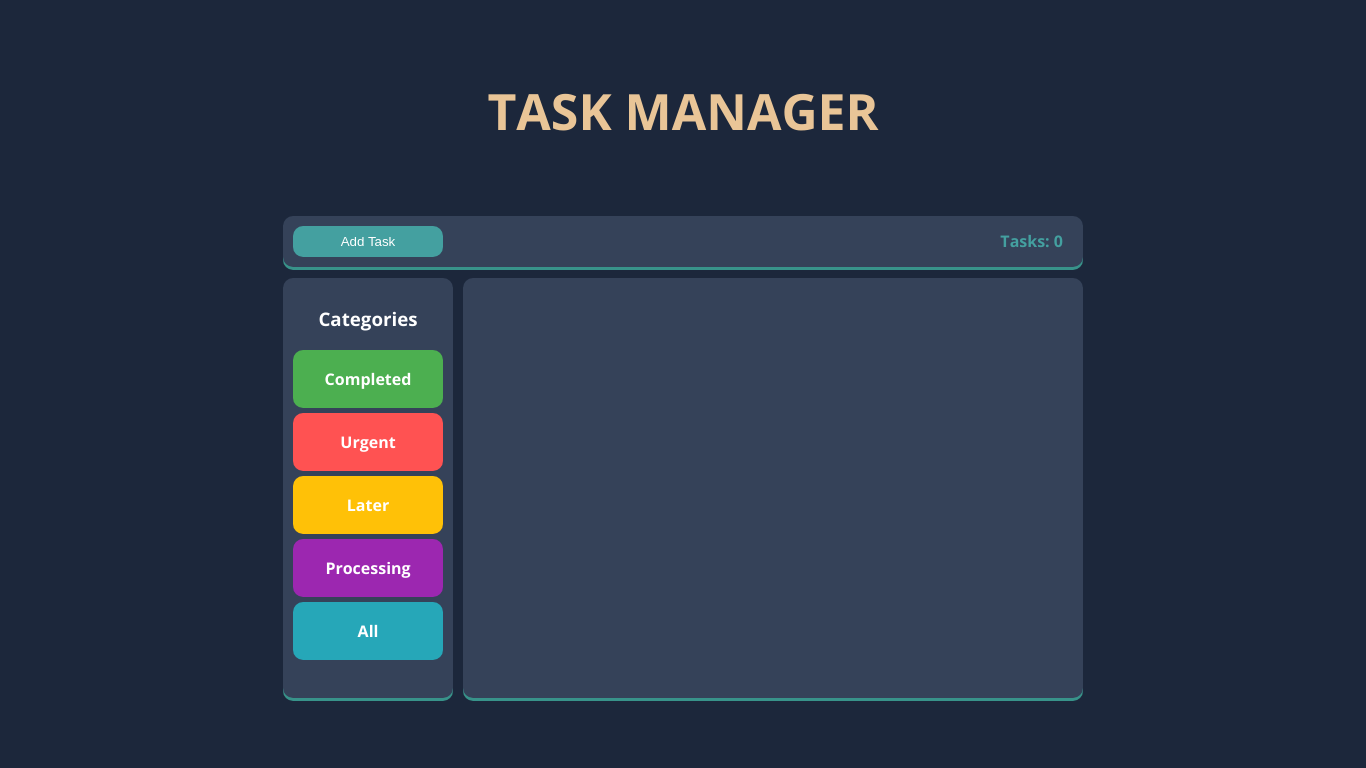
Header › should add a task on Submit Task button click
The width and height of the screenshot is (1366, 768).
Click the button with class "header__add-task-button": coordinates (368, 242) left=293, top=226, right=443, bottom=257
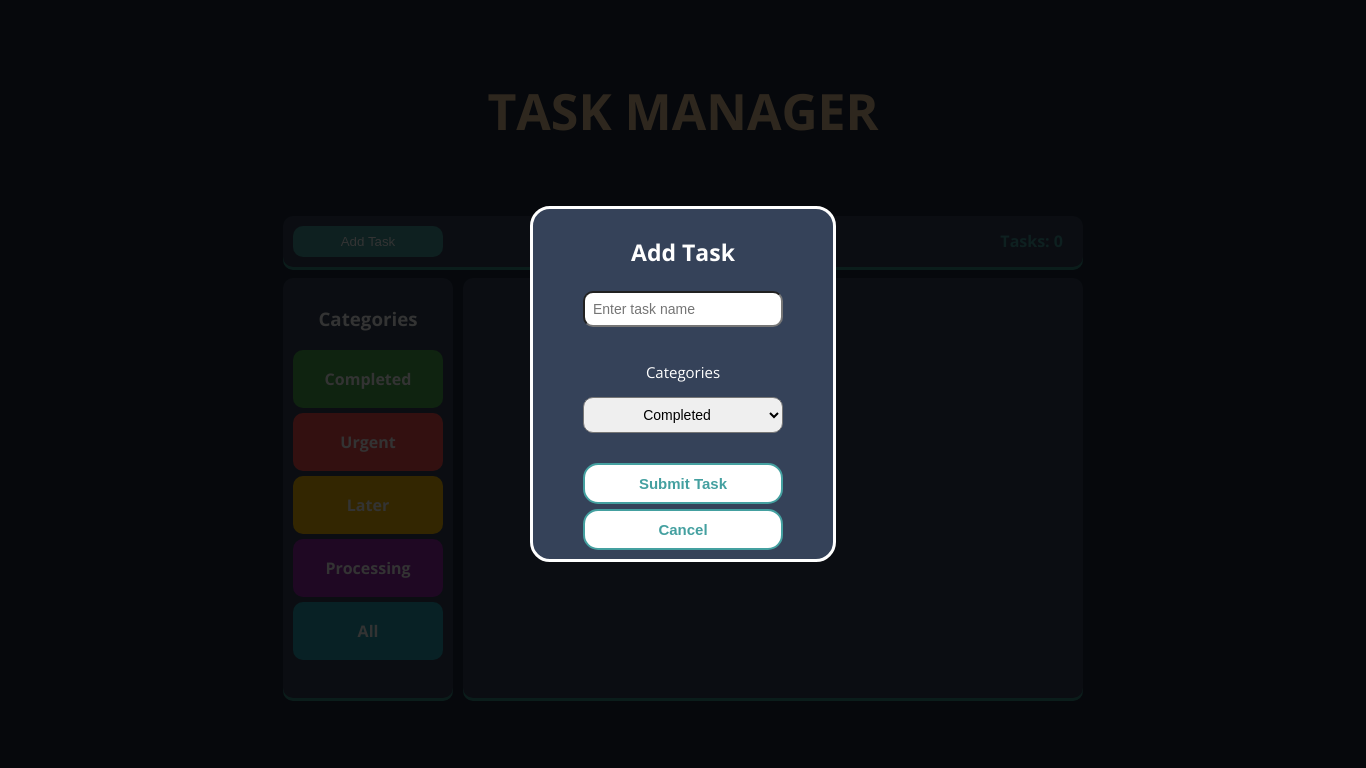
In the field with placeholder "Enter task name": coordinates (683, 309) left=583, top=291, right=783, bottom=327, type "New Task"
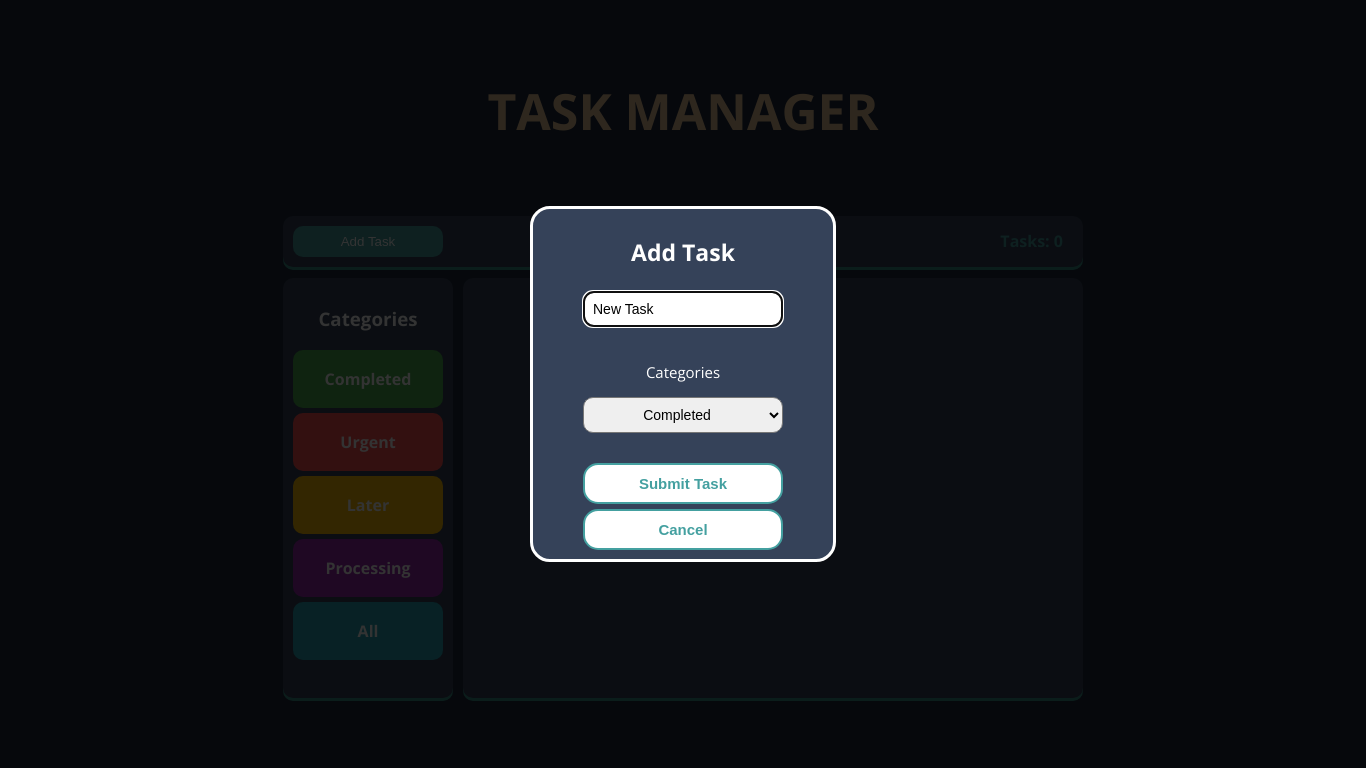
Select "Urgent" in the dropdown: coordinates (683, 415) left=583, top=397, right=783, bottom=433
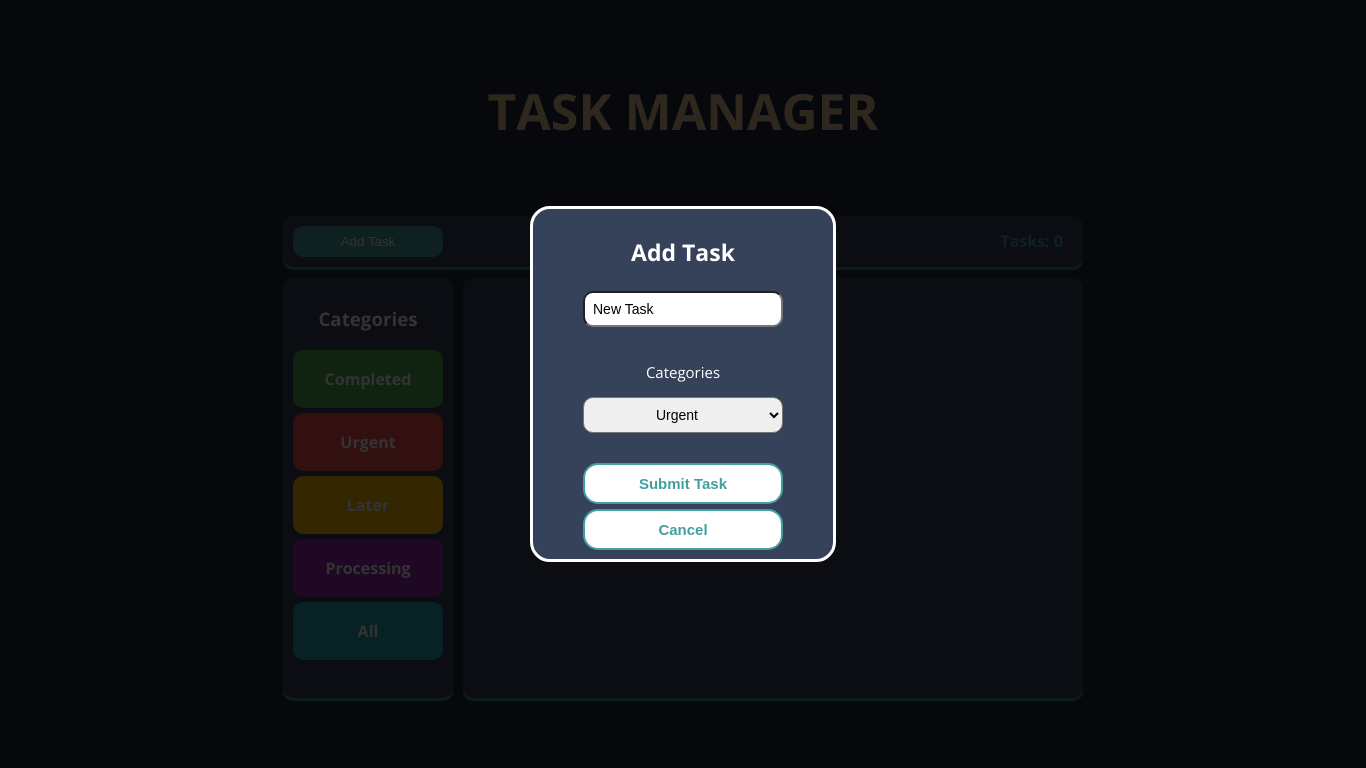
Click the button with class "modal__btn-submitTask": coordinates (683, 484) left=583, top=463, right=783, bottom=504
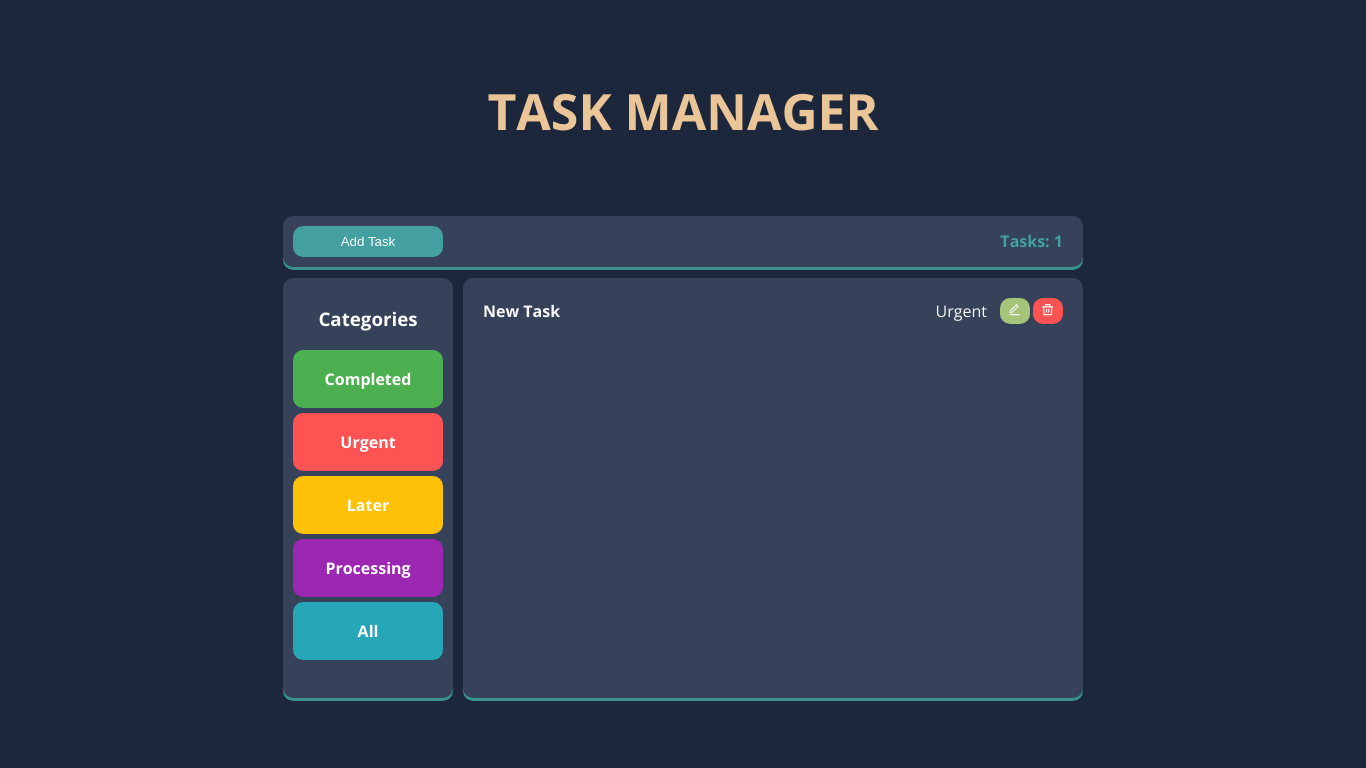
Result: the text with class "header__task-count" reads "Tasks: 1" at left=1000, top=230, right=1063, bottom=252
